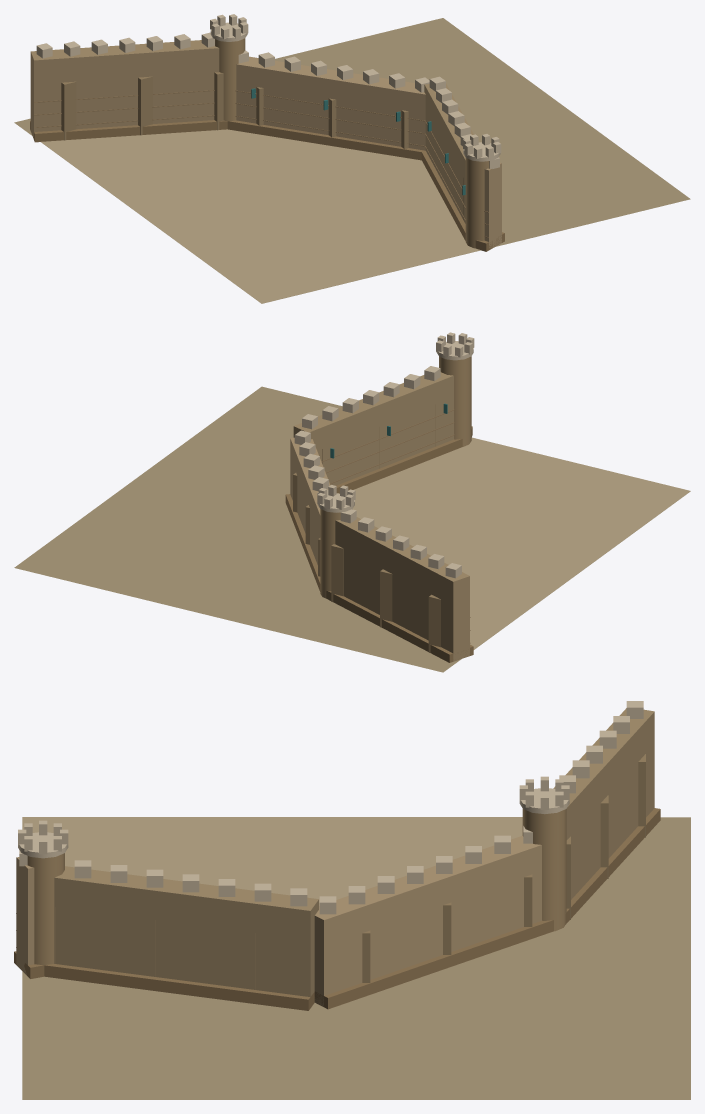
The model's file is city-boundary-1_-2.glb.
3 views of the same model, one above another, from view 1: azimuth 30°, elevation 25°; view 2: azimuth 150°, elevation 25°; view 3: azimuth 270°, elevation 25° (orthographic). The views are drawn at different scales.
Visible parts, largest first — view 1: city-boundary-1_-2; view 2: city-boundary-1_-2; view 3: city-boundary-1_-2.
Boxes of the visible parts, x1,y1,x2,y2 form: city-boundary-1_-2: [14, 14, 690, 303]; city-boundary-1_-2: [14, 332, 690, 672]; city-boundary-1_-2: [14, 701, 690, 1099].
Bounding box in the file's own units: 32.36 × 7.19 × 32.39.
